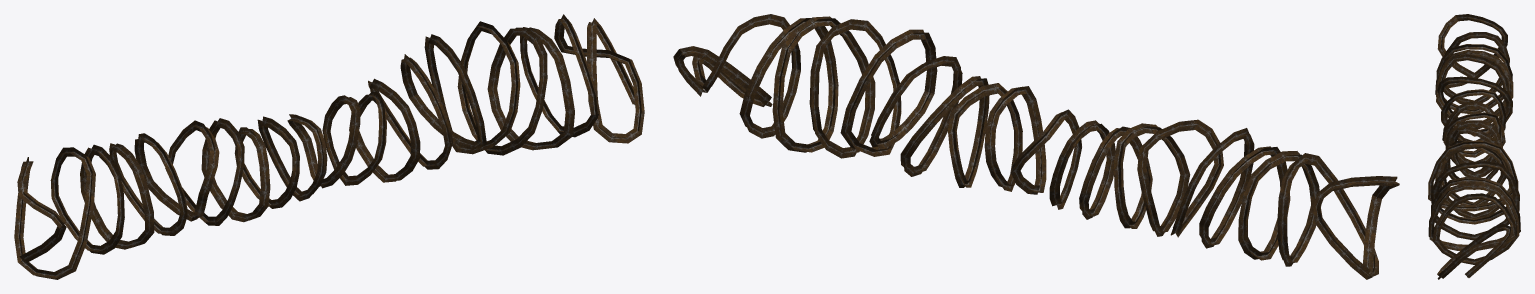
The model's file is Barb_Wire_01.FBX.
The picture shows the model from 3 angles, left to right: view 1: azimuth 30°, elevation 25°; view 2: azimuth 150°, elevation 25°; view 3: azimuth 270°, elevation 25°; orthographic projection. The views are drawn at different scales.
Visible parts, largest first — view 1: Barb_Wire_01; view 2: Barb_Wire_01; view 3: Barb_Wire_01.
Boxes of the visible parts, <box> form: Barb_Wire_01: <box>14,14,644,279</box>; Barb_Wire_01: <box>673,14,1399,279</box>; Barb_Wire_01: <box>1428,14,1520,279</box>.
Size of the model in its own units: 767 by 146 by 140.
